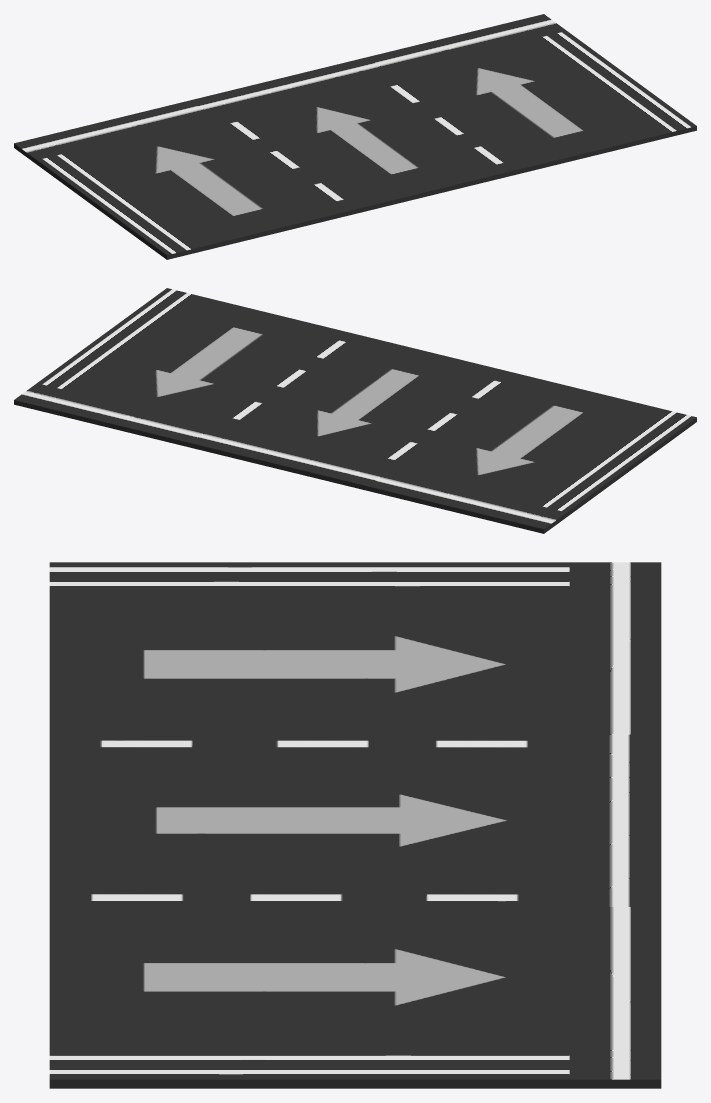
The model's file is Road_End.fbx.
3 views of the same model, one above another, from view 1: azimuth 30°, elevation 25°; view 2: azimuth 150°, elevation 25°; view 3: azimuth 270°, elevation 25° (orthographic). The views are drawn at different scales.
Visible parts, largest first — view 1: plainRoad6, plainRoad5, plainRoad7; view 2: plainRoad6, plainRoad5, plainRoad7; view 3: plainRoad7, plainRoad6, plainRoad5.
Boxes of the visible parts, left/top/right/bottom form: plainRoad6: left=14, top=100, right=343, bottom=259; plainRoad5: left=191, top=57, right=520, bottom=216; plainRoad7: left=367, top=14, right=696, bottom=173; plainRoad6: left=367, top=374, right=696, bottom=533; plainRoad5: left=190, top=331, right=519, bottom=490; plainRoad7: left=14, top=288, right=343, bottom=447; plainRoad7: left=49, top=907, right=661, bottom=1088; plainRoad6: left=49, top=562, right=661, bottom=734; plainRoad5: left=49, top=734, right=661, bottom=906.
Bounding box in the file's own units: 6 × 0.05 × 3.
1 material, 1 textured.
